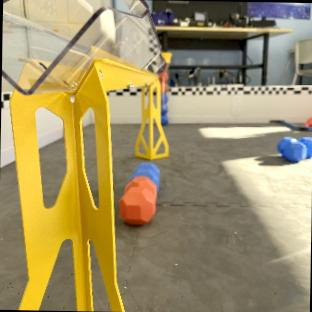Goal: (1, 0, 164, 93)
Parking - B: (270, 119, 312, 131)
V5_BLUE: (119, 162, 159, 224), (277, 135, 312, 161)
